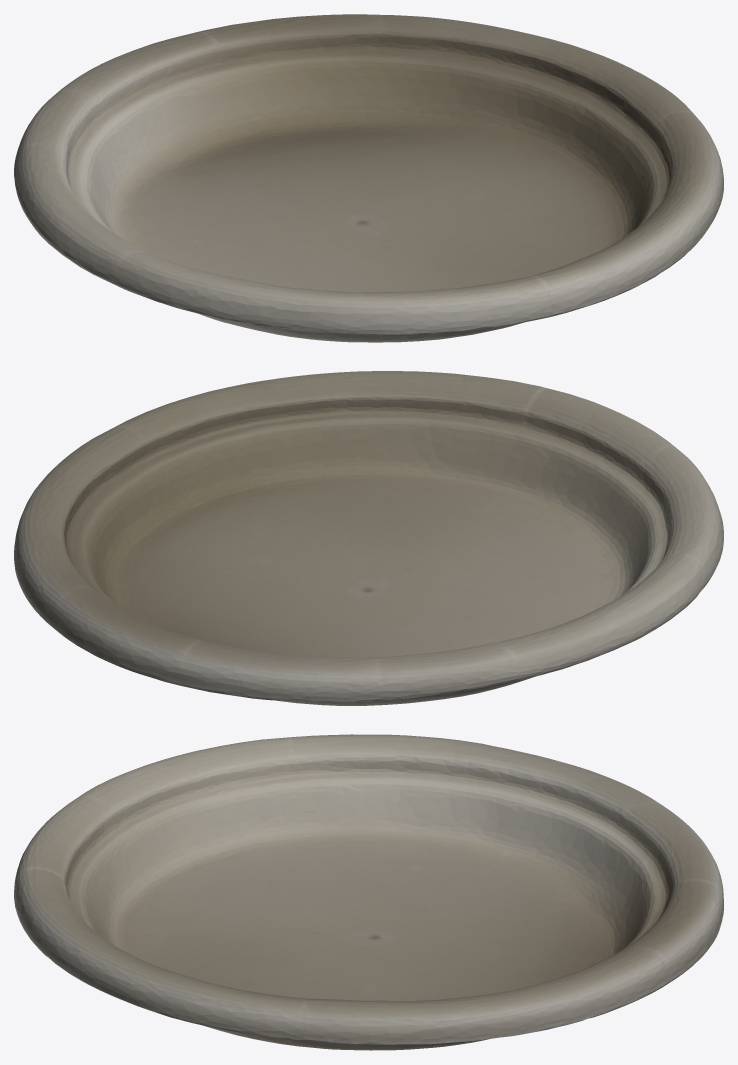
3 renders of one model, top to bottom at view 1: azimuth 30°, elevation 25°; view 2: azimuth 150°, elevation 25°; view 3: azimuth 270°, elevation 25°, orthographic. The views are drawn at different scales.
Parts seen in each view (by area): view 1: world; view 2: world; view 3: world.
Boxes of the visible parts, x1,y1,x2,y2 form: world: (14,14,723,342); world: (14,371,723,705); world: (14,734,723,1050).
Bounding box in the file's own units: 0.9628 × 0.1359 × 1.
1 material, 1 textured.
